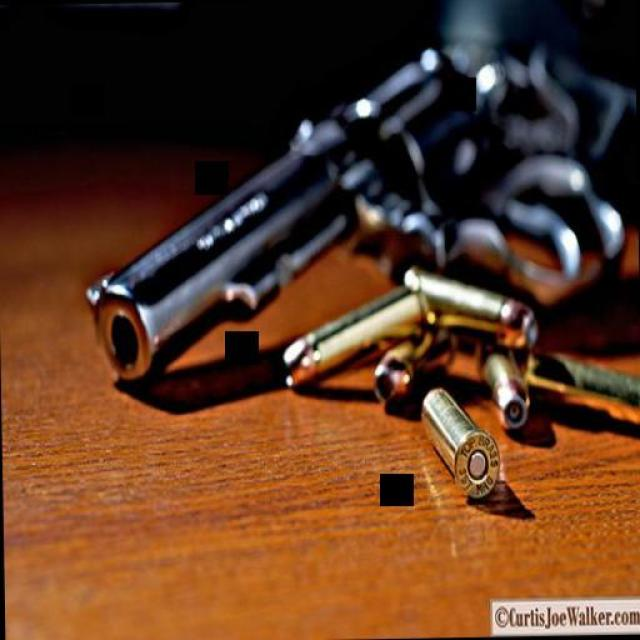gun: (76, 38, 619, 392)
